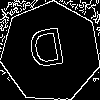D: (26, 27, 69, 78)
